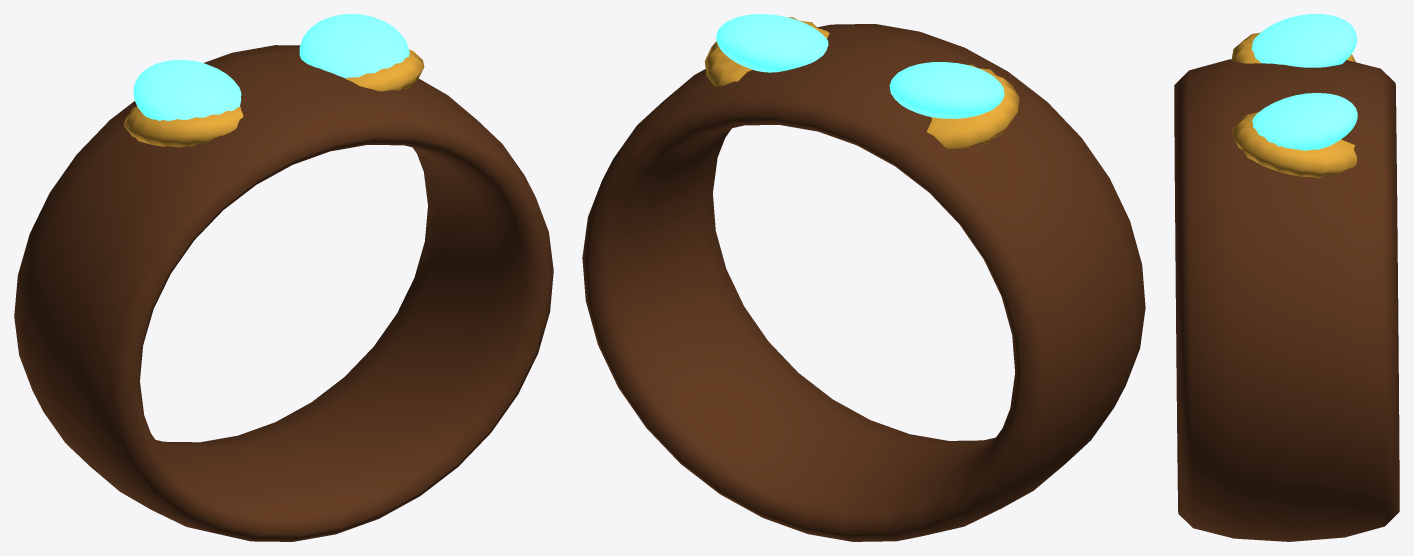
File: hat_goggles.glb
3 views of the same model, side by side, from view 1: azimuth 30°, elevation 25°; view 2: azimuth 150°, elevation 25°; view 3: azimuth 270°, elevation 25° (orthographic). The views are drawn at different scales.
Parts seen in each view (by area): view 1: Hat_hat_goggles_GoggleStrap, Hat_hat_goggles_GoggleLens_1, Hat_hat_goggles_GoggleLens_-1, Hat_hat_goggles_GoggleRim_-1, Hat_hat_goggles_GoggleRim_1; view 2: Hat_hat_goggles_GoggleStrap, Hat_hat_goggles_GoggleLens_-1, Hat_hat_goggles_GoggleLens_1, Hat_hat_goggles_GoggleRim_-1, Hat_hat_goggles_GoggleRim_1; view 3: Hat_hat_goggles_GoggleStrap, Hat_hat_goggles_GoggleLens_1, Hat_hat_goggles_GoggleLens_-1, Hat_hat_goggles_GoggleRim_1, Hat_hat_goggles_GoggleRim_-1.
Part boxes in pixels (bbox=[...]): Hat_hat_goggles_GoggleStrap: bbox=[14, 45, 553, 541]; Hat_hat_goggles_GoggleLens_1: bbox=[299, 14, 409, 78]; Hat_hat_goggles_GoggleLens_-1: bbox=[133, 59, 241, 120]; Hat_hat_goggles_GoggleRim_-1: bbox=[123, 106, 243, 147]; Hat_hat_goggles_GoggleRim_1: bbox=[346, 49, 424, 91]; Hat_hat_goggles_GoggleStrap: bbox=[582, 24, 1145, 541]; Hat_hat_goggles_GoggleLens_-1: bbox=[889, 62, 1004, 118]; Hat_hat_goggles_GoggleLens_1: bbox=[716, 14, 828, 72]; Hat_hat_goggles_GoggleRim_-1: bbox=[926, 64, 1019, 148]; Hat_hat_goggles_GoggleRim_1: bbox=[704, 17, 829, 86]; Hat_hat_goggles_GoggleStrap: bbox=[1174, 59, 1399, 541]; Hat_hat_goggles_GoggleLens_1: bbox=[1252, 93, 1357, 150]; Hat_hat_goggles_GoggleLens_-1: bbox=[1251, 14, 1357, 67]; Hat_hat_goggles_GoggleRim_1: bbox=[1232, 112, 1356, 178]; Hat_hat_goggles_GoggleRim_-1: bbox=[1231, 32, 1355, 63].
Bounding box in the file's own units: 0.76 × 0.7077 × 0.3194.
